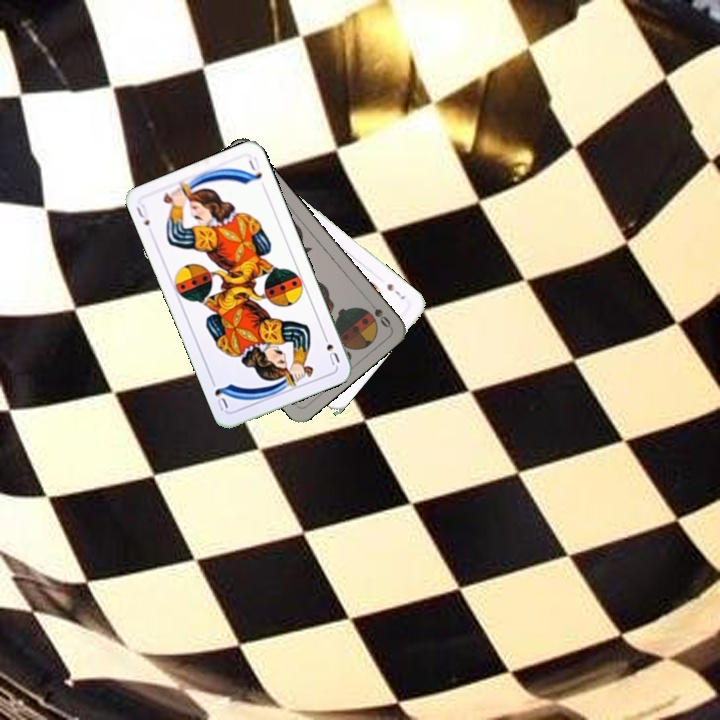S7: (383, 279, 408, 302)
SO: (363, 295, 393, 331)
SU: (319, 329, 342, 368), (132, 200, 152, 229)
